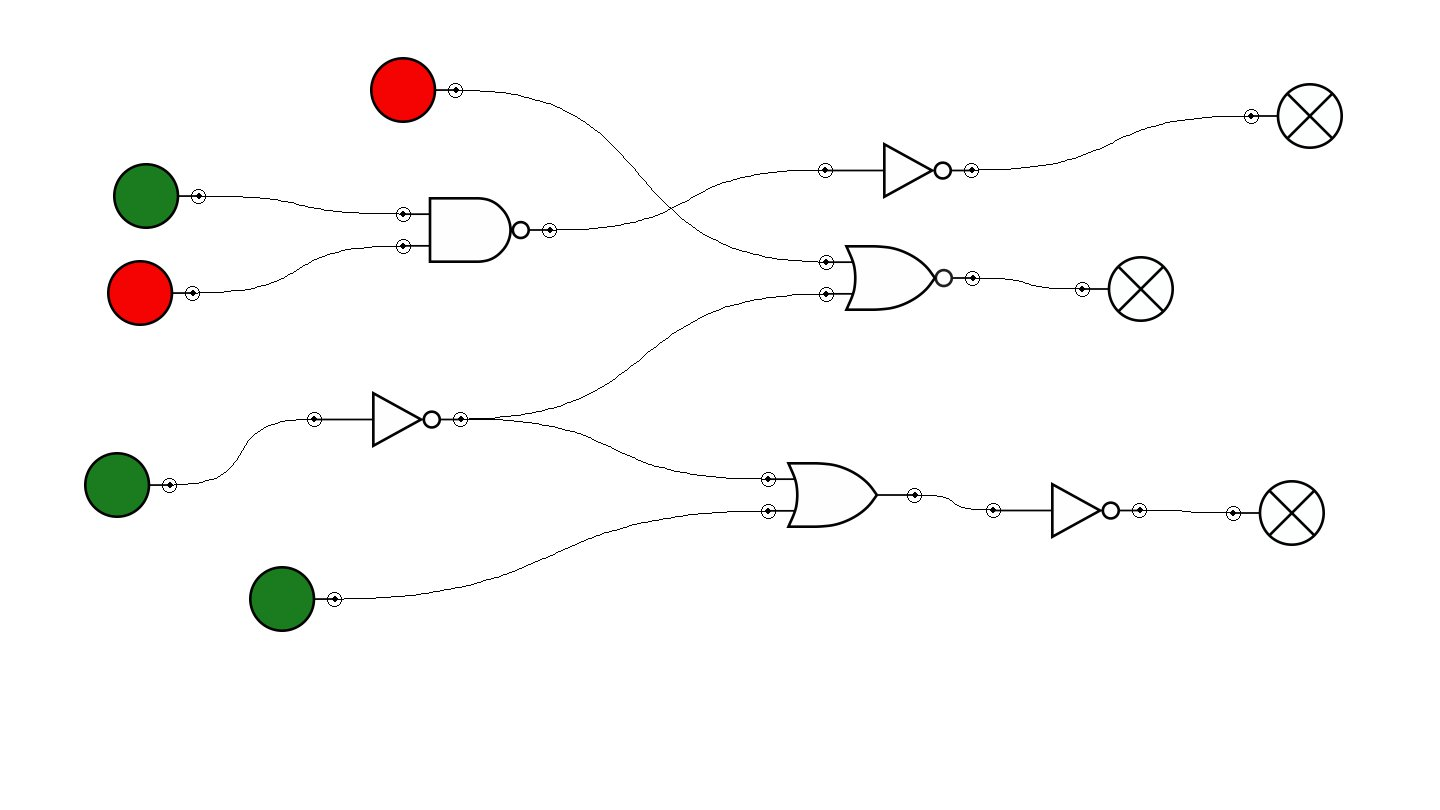bulb: (1244, 83, 1343, 149), (1075, 256, 1174, 322), (1226, 480, 1325, 546)
nand: (396, 197, 557, 263)
nor: (819, 245, 980, 311)
not: (986, 482, 1147, 539), (818, 142, 979, 199), (307, 391, 468, 448)
or: (761, 462, 922, 528)
switch_False: (370, 57, 463, 123), (107, 260, 200, 326)
switch_True: (249, 566, 342, 632), (84, 452, 177, 518), (113, 163, 206, 229)
